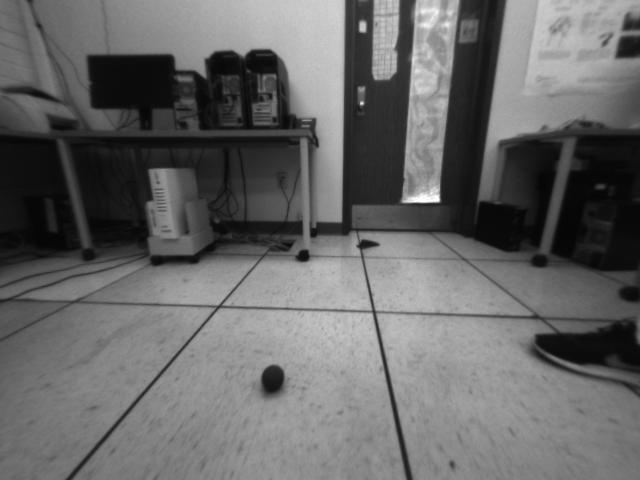dogtoy: (254, 358, 297, 397)
